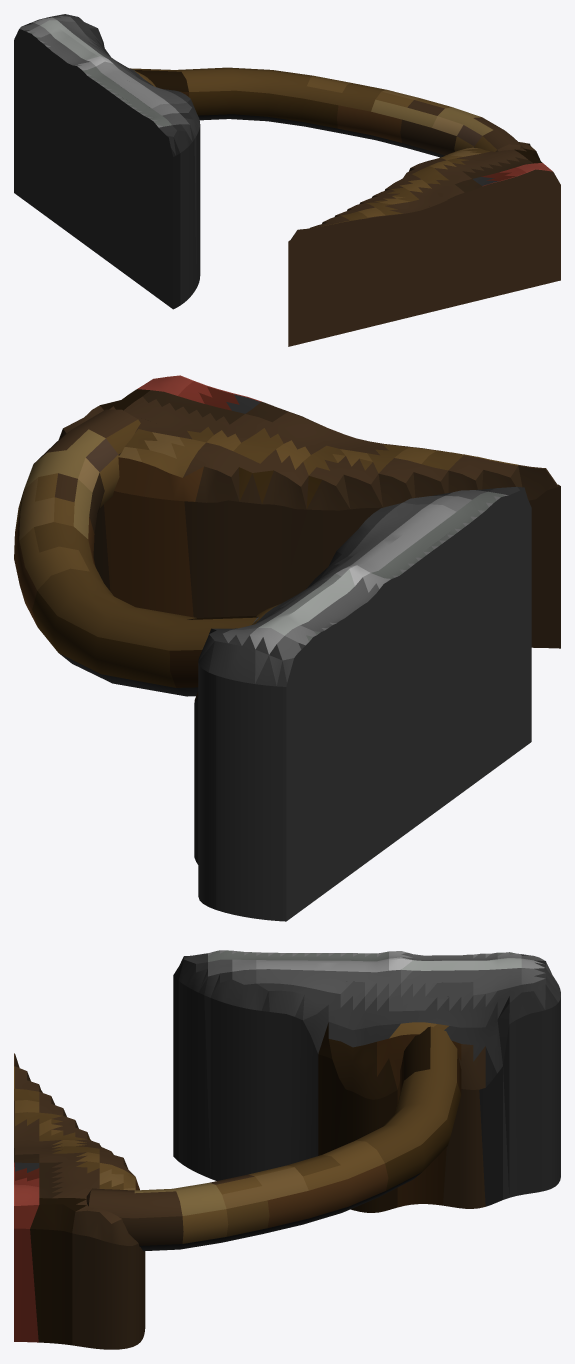
The model's file is tusk_boss_18.glb.
The picture shows the model from 3 angles, top to bottom: view 1: azimuth 30°, elevation 25°; view 2: azimuth 150°, elevation 25°; view 3: azimuth 270°, elevation 25°; orthographic projection. The views are drawn at different scales.
Visible parts, largest first — view 1: tusk_boss_18_plates; view 2: tusk_boss_18_plates; view 3: tusk_boss_18_plates.
Part boxes in pixels (x1=…): tusk_boss_18_plates: x1=14, y1=14, x2=560, y2=346; tusk_boss_18_plates: x1=14, y1=375, x2=560, y2=921; tusk_boss_18_plates: x1=14, y1=950, x2=560, y2=1349.
Size of the model in its own units: 20.88 by 10.6 by 24.94.
